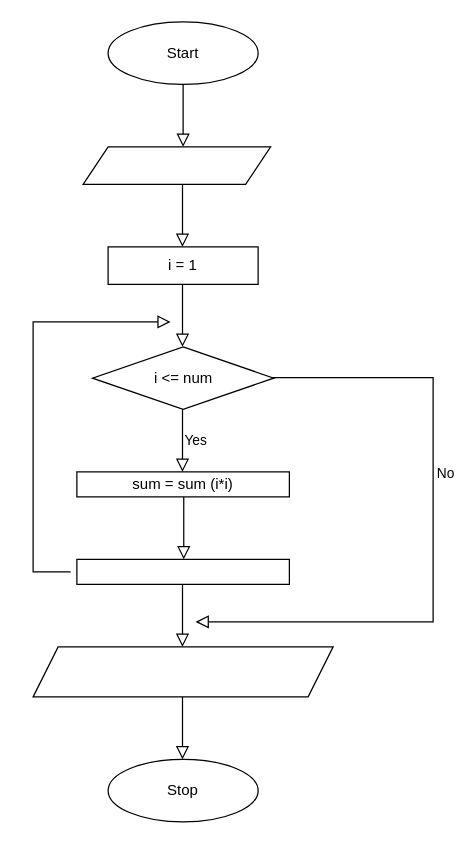
The diagram is 476 pixels wide and 844 high, and some of its shapes have lost their labels. Here are the shapes that lost their labels. From the top down, the centre of each, then its label:
At [176,165]: "Read num, sum=0".
At [182,571]: "i = i+1".
At [182,671]: "Print sum".
